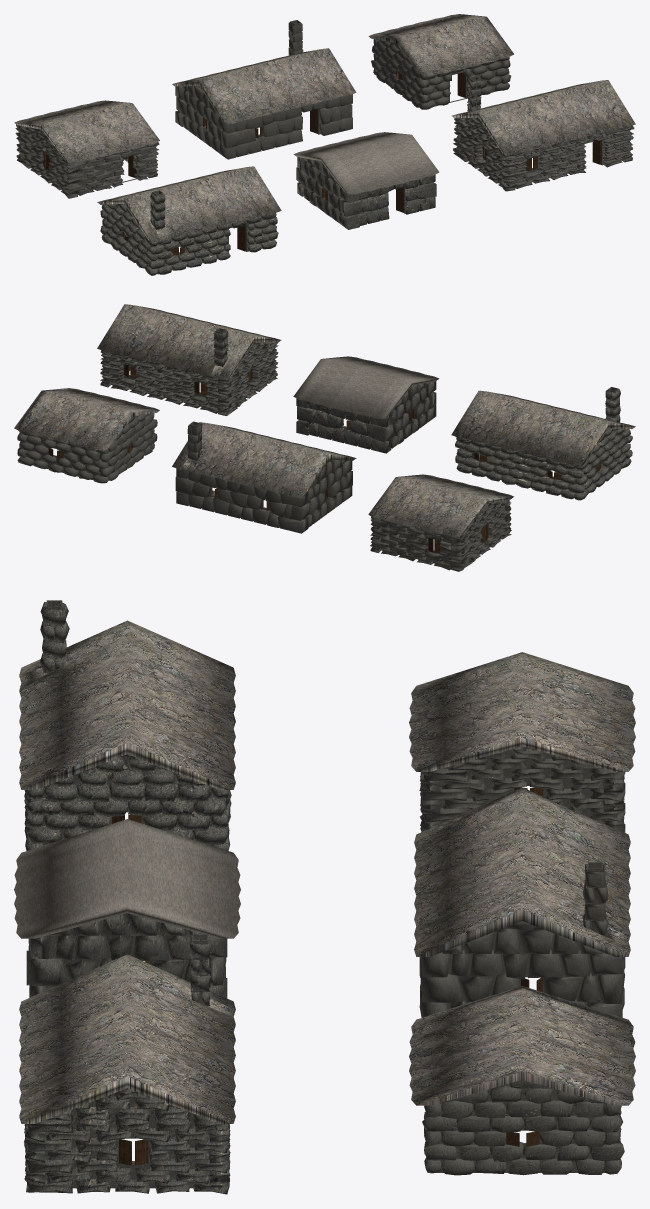
File: medieval_village.glb
The picture shows the model from 3 angles, top to bottom: view 1: azimuth 30°, elevation 25°; view 2: azimuth 150°, elevation 25°; view 3: azimuth 270°, elevation 25°; orthographic projection. The views are drawn at different scales.
Parts seen in each view (by area): view 1: Plane.011_5, Cube.009_0, Plane.010_4, Cube.288_3, Cube.269_1, Cube.291_2; view 2: Plane.010_4, Cube.009_0, Plane.011_5, Cube.269_1, Cube.288_3, Cube.291_2; view 3: Plane.011_5, Plane.010_4, Cube.009_0, Cube.291_2, Cube.288_3, Cube.269_1.
Boxes of the visible parts, <box> form: Plane.011_5: <box>451,76,635,191</box>; Cube.009_0: <box>172,20,356,159</box>; Plane.010_4: <box>97,166,281,275</box>; Cube.288_3: <box>14,100,159,198</box>; Cube.269_1: <box>293,132,439,229</box>; Cube.291_2: <box>368,14,513,109</box>; Plane.010_4: <box>451,387,635,500</box>; Cube.009_0: <box>172,421,356,533</box>; Plane.011_5: <box>97,304,281,415</box>; Cube.269_1: <box>293,356,439,453</box>; Cube.288_3: <box>368,474,513,571</box>; Cube.291_2: <box>14,388,159,483</box>; Plane.011_5: <box>19,934,235,1194</box>; Plane.010_4: <box>19,600,235,850</box>; Cube.009_0: <box>414,787,630,1017</box>; Cube.291_2: <box>409,986,635,1175</box>; Cube.288_3: <box>409,652,635,832</box>; Cube.269_1: <box>14,819,240,998</box>.
Size of the model in its own units: 27.36 by 4.19 by 15.75.
3 materials, 3 textured.
